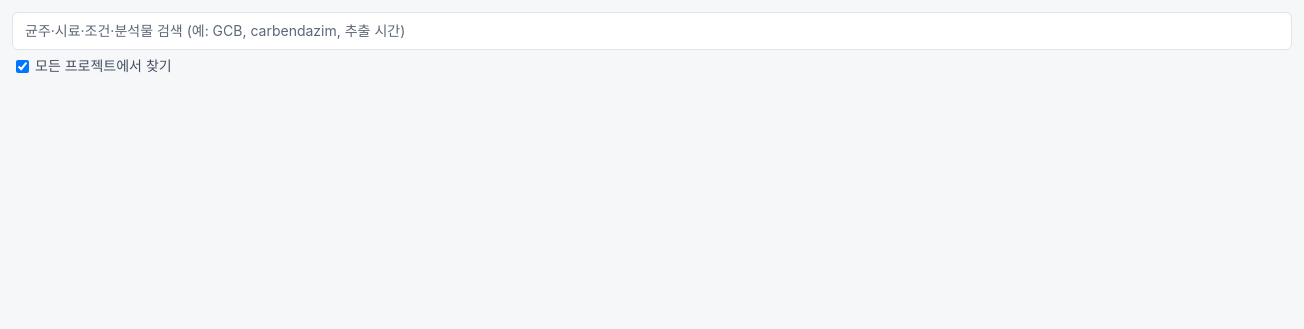
Test: GlobalSearchBar › shows facets and highlighted hits, and opens the experiment
Type "GCB" into the dropdown at x=652, y=31, box [12, 12, 1292, 50]
Wait 300 ms
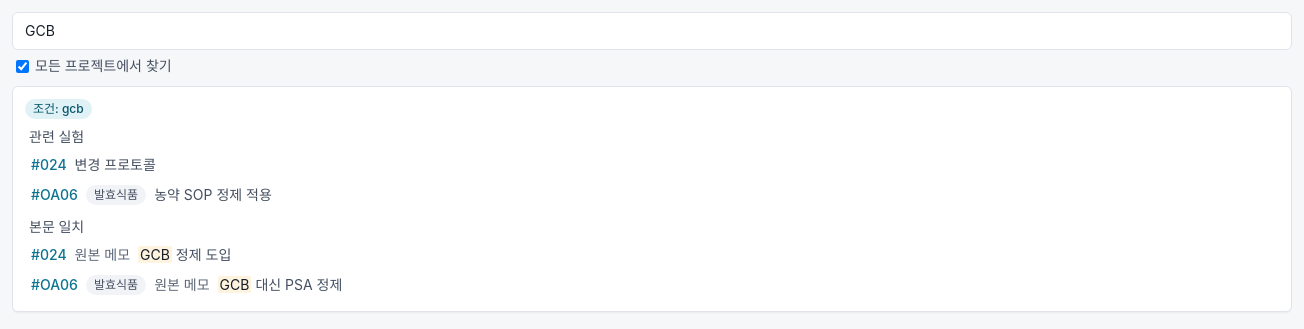
Expected: the text "조건: gcb" is shown, [25, 98, 92, 118]
Expected: the list named "관련 실험" shows "변경 프로토콜", [25, 150, 1279, 178]
Click the button "#024 원본 메모 GCB 정제 도입" at x=49, y=254, box [25, 240, 1279, 268]
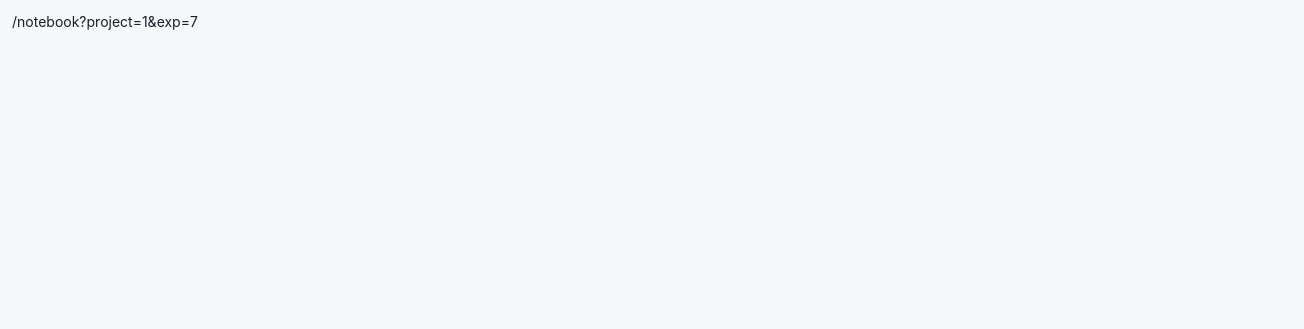
Expected: the text with test id "where" reads "/notebook?project=1&exp=7", [12, 13, 198, 30]
